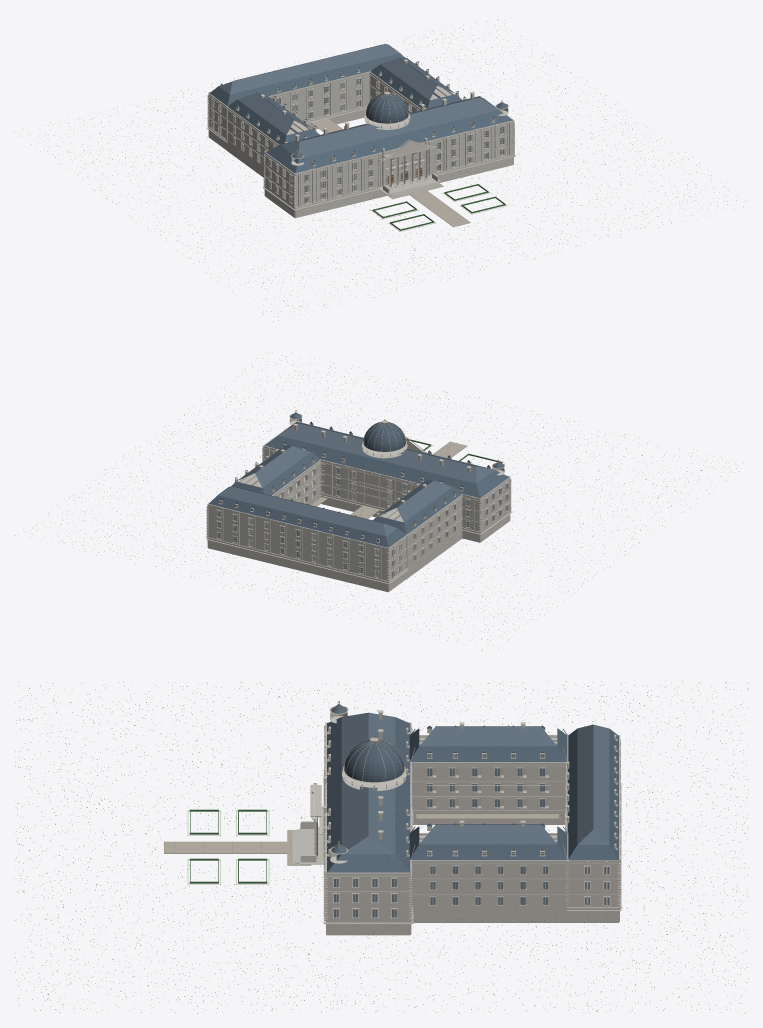
File: Chateau-Grand-V5.7-Geometrie.glb
3 renders of one model, top to bottom at view 1: azimuth 30°, elevation 25°; view 2: azimuth 150°, elevation 25°; view 3: azimuth 270°, elevation 25°, orthographic. The views are drawn at different scales.
Parts seen in each view (by area): view 1: material_0, material_1, material_5, material_11, material_2; view 2: material_0, material_1, material_5, material_2, material_11; view 3: material_0, material_1, material_5, material_11, material_2, material_9.
Part boxes in pixels (box(x1,y1,x2,y2)): material_0: box(207, 59, 514, 218); material_1: box(209, 43, 512, 173); material_5: box(207, 85, 515, 231); material_11: box(14, 19, 743, 321); material_2: box(212, 69, 503, 202); material_0: box(206, 415, 511, 592); material_1: box(209, 412, 509, 547); material_5: box(206, 441, 512, 584); material_2: box(217, 423, 507, 576); material_11: box(14, 352, 739, 650); material_0: box(300, 708, 621, 935); material_1: box(327, 704, 618, 872); material_5: box(164, 737, 621, 924); material_11: box(14, 681, 748, 1013); material_2: box(334, 729, 616, 917); material_9: box(329, 704, 405, 854).
Size of what is drawn, in the model's own units: 244 by 42.49 by 228.
